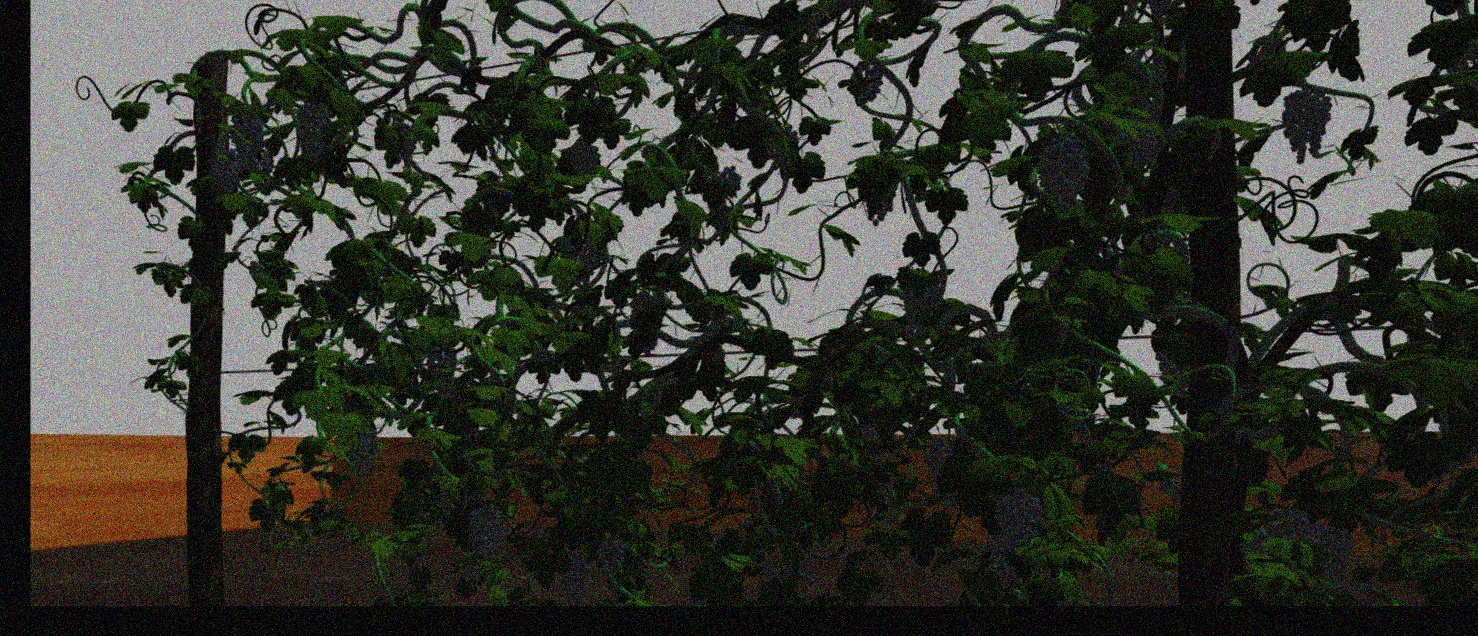grape: (1036, 131, 1092, 220), (1280, 90, 1332, 159), (994, 490, 1045, 552), (1311, 526, 1355, 585), (295, 97, 329, 161), (466, 503, 504, 559), (230, 111, 264, 165), (557, 549, 589, 602), (346, 427, 378, 476), (209, 147, 241, 192), (569, 140, 600, 176), (597, 538, 626, 576)
